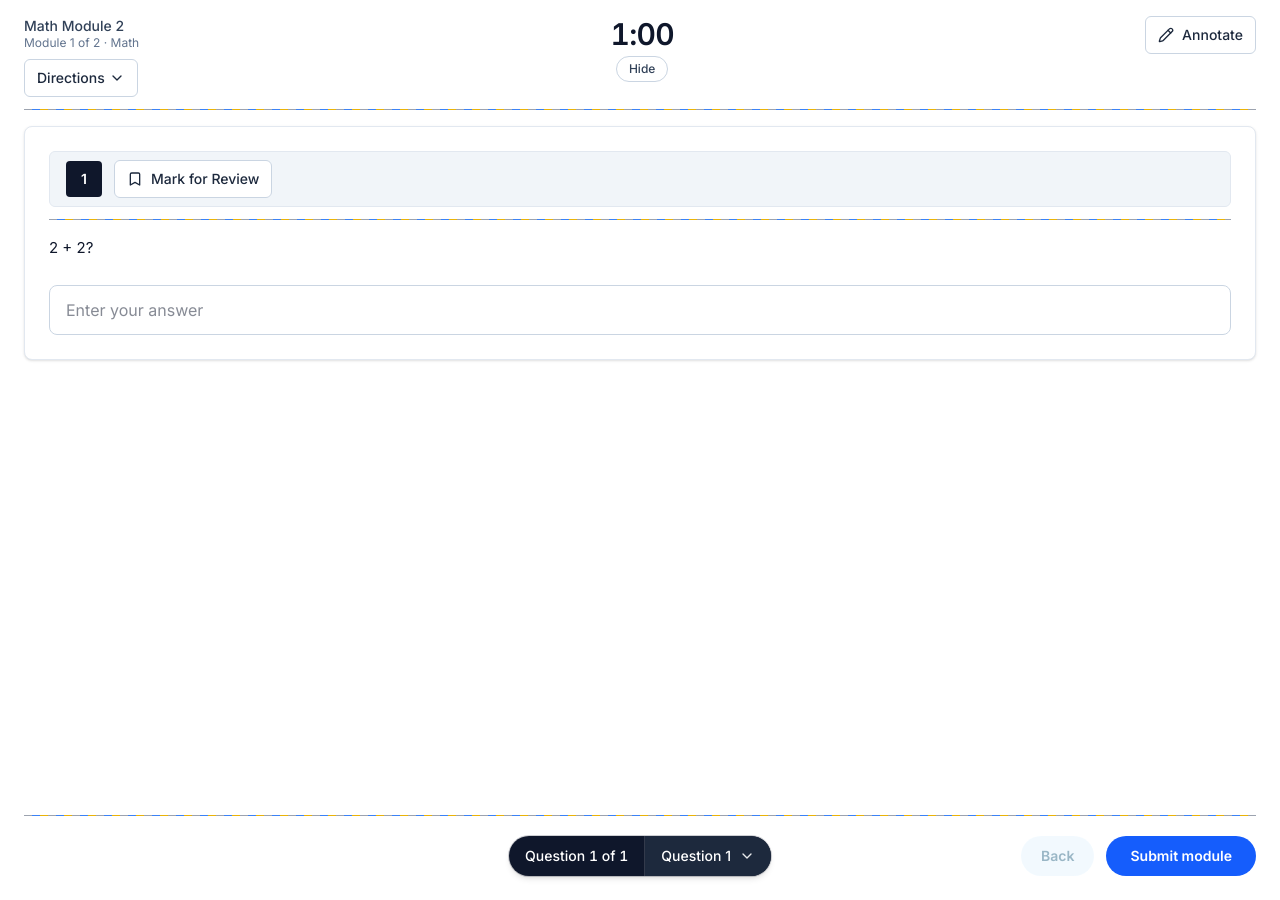
failed module save stays on the module and does not lock it
Click the button "Submit module" at (1181, 856), box [1106,836,1256,876]
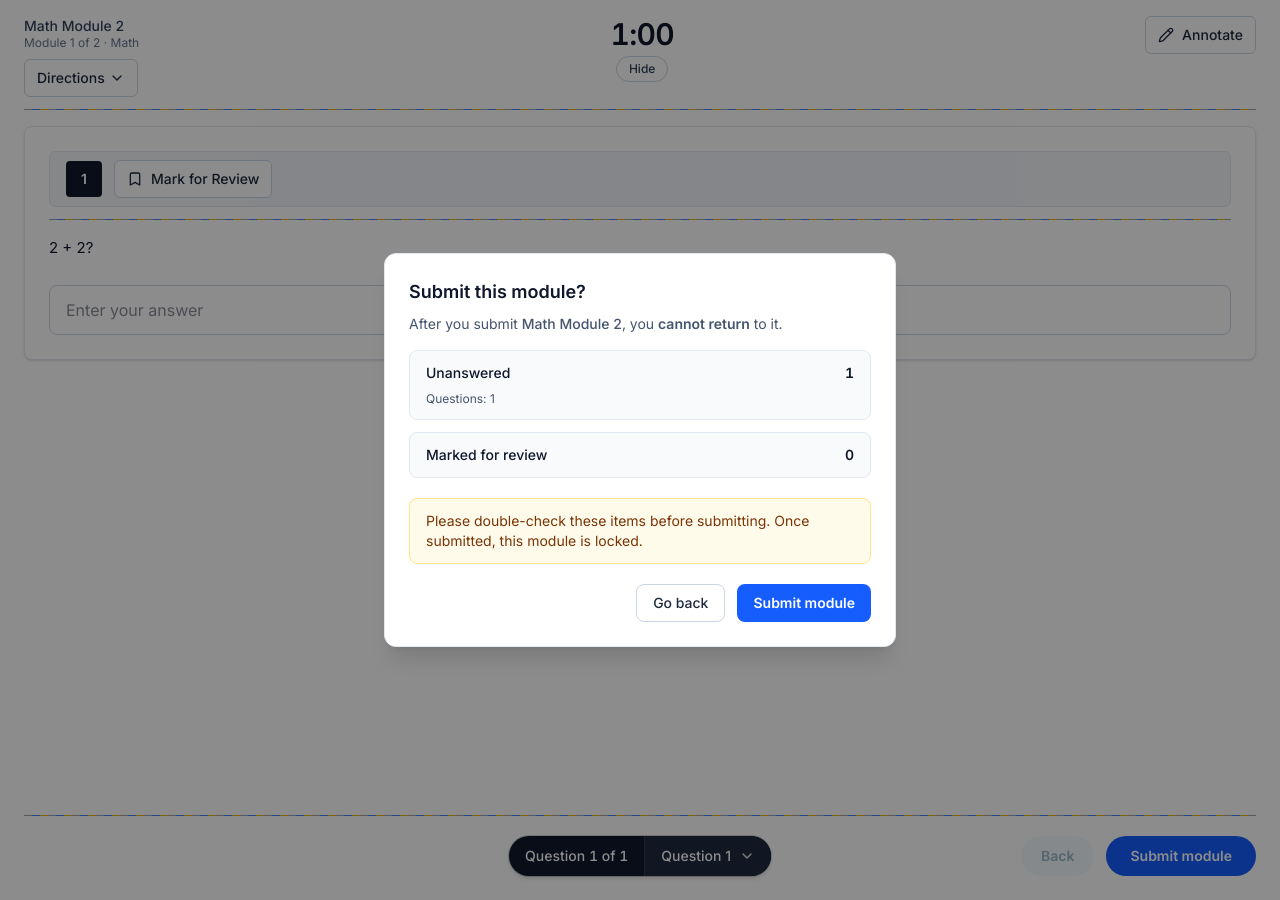
Click the button "Submit module" at (804, 603), box [738,584,871,622]
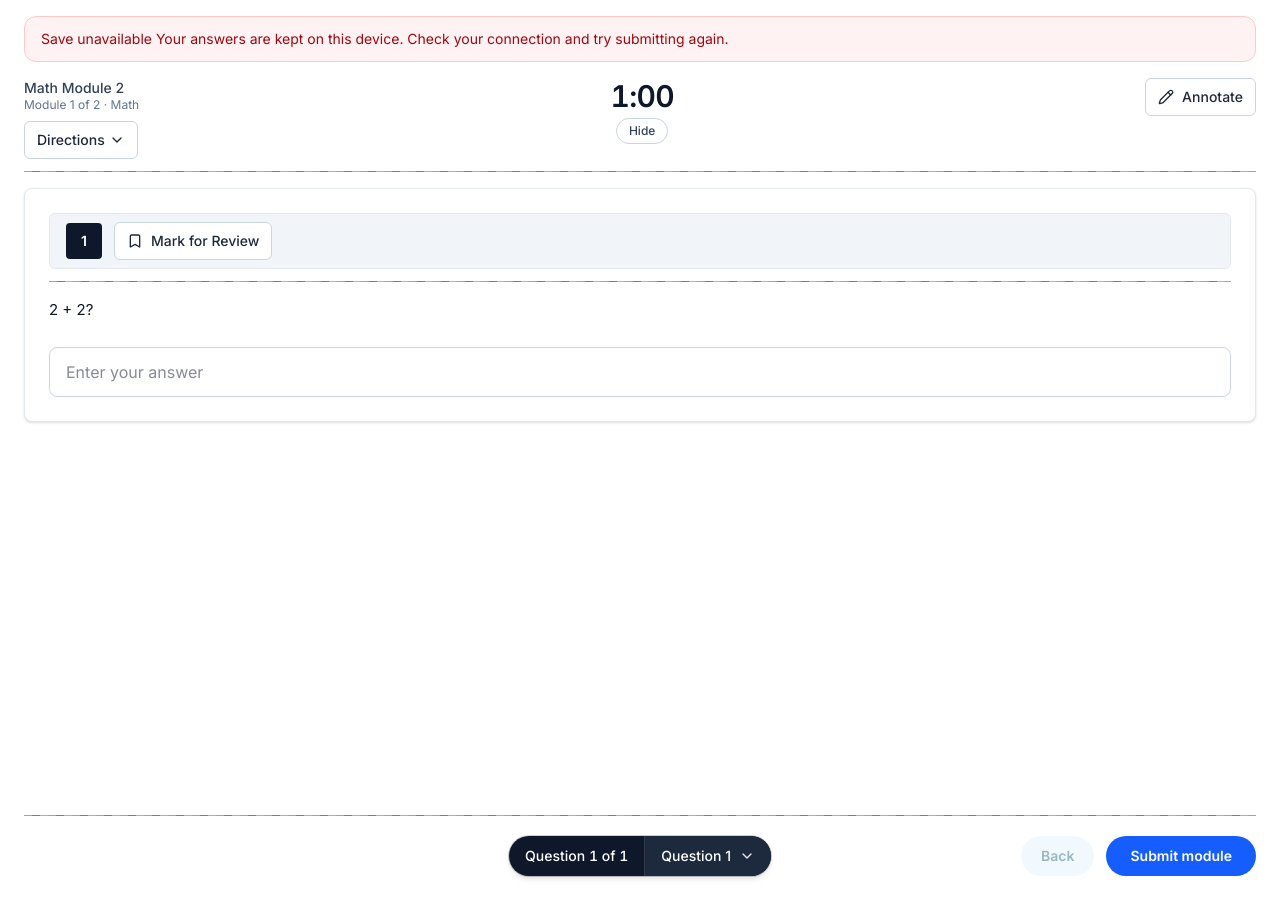
Expected: the text "Module 1 of 2" is shown, [24,97,139,113]
Expected: the message shows "Save unavailable", [41,30,152,47]
